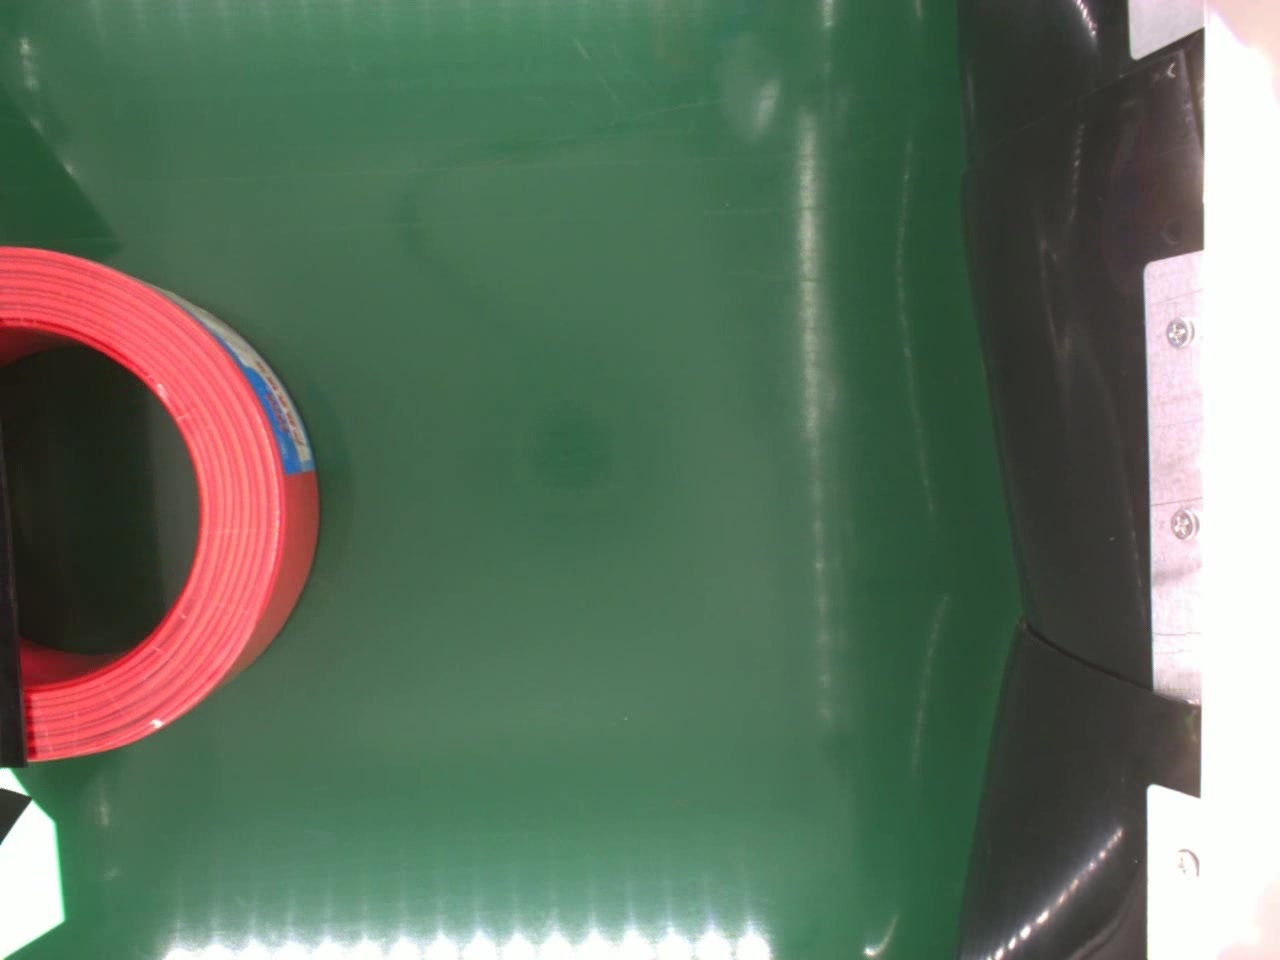red: (0, 242, 317, 755)
